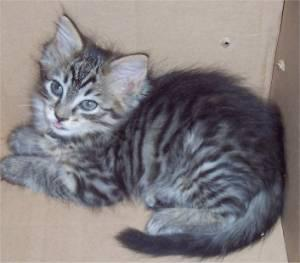cat-Bengal: (38, 14, 149, 135)
